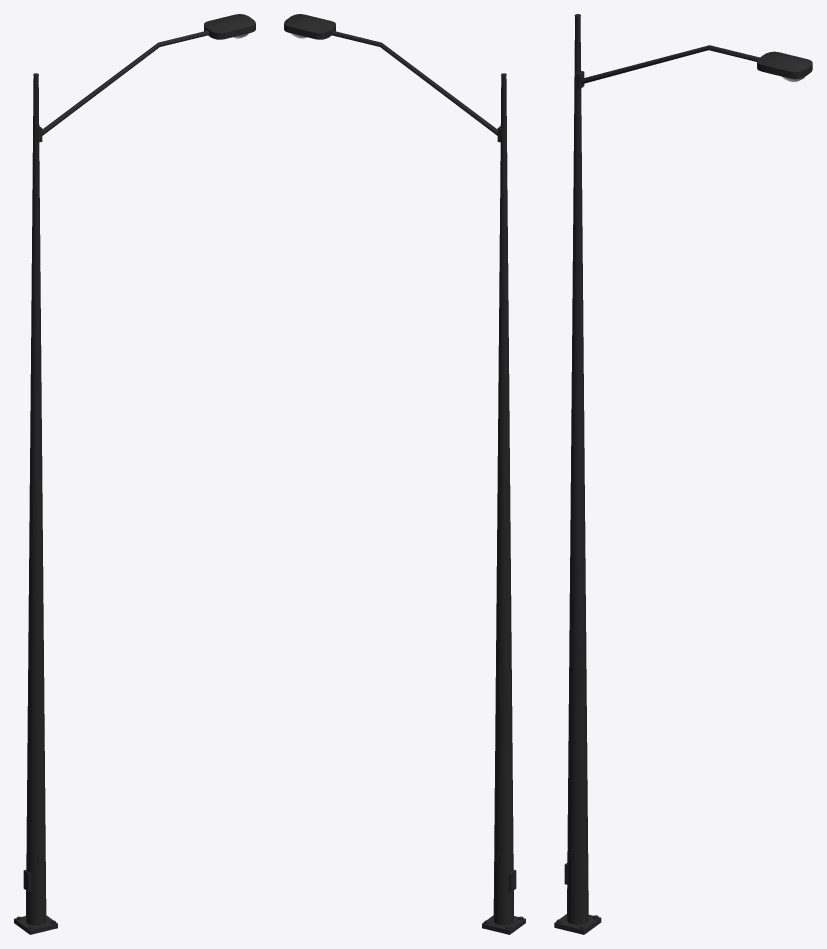
The model's file is GSDStreetLightSingle.fbx.
The picture shows the model from 3 angles, left to right: view 1: azimuth 30°, elevation 25°; view 2: azimuth 150°, elevation 25°; view 3: azimuth 330°, elevation 25°; orthographic projection. The views are drawn at different scales.
Visible parts, largest first — view 1: GSDStreetLightDouble; view 2: GSDStreetLightDouble; view 3: GSDStreetLightDouble.
Boxes of the visible parts, x1,y1,x2,y2 form: GSDStreetLightDouble: (14, 14, 255, 934); GSDStreetLightDouble: (284, 14, 525, 934); GSDStreetLightDouble: (554, 14, 812, 934).
Bounding box in the file's own units: 2.63 × 9.4 × 0.3204.
